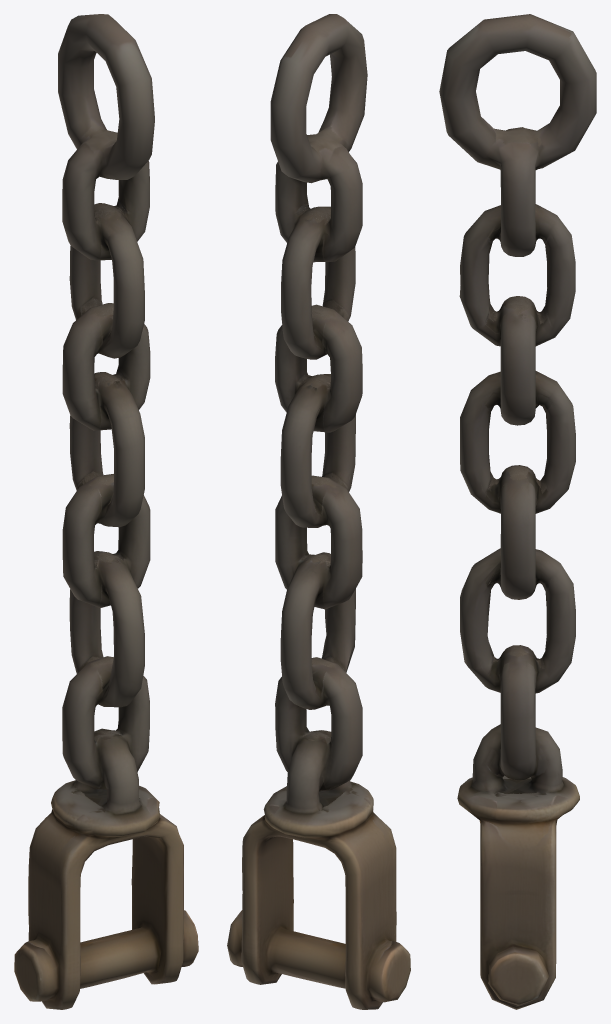
The model's file is Chain_1120160445_texture.fbx.
3 views of the same model, side by side, from view 1: azimuth 30°, elevation 25°; view 2: azimuth 150°, elevation 25°; view 3: azimuth 270°, elevation 25° (orthographic).
Visible parts, largest first — view 1: input; view 2: input; view 3: input.
Boxes of the visible parts, left/top/right/bottom form: input: left=14, top=14, right=198, bottom=1009; input: left=227, top=14, right=410, bottom=1009; input: left=439, top=14, right=596, bottom=1009.
Size of the model in its own units: 32.75 by 191 by 28.14.
Materials: 1 (1 with a texture image).
